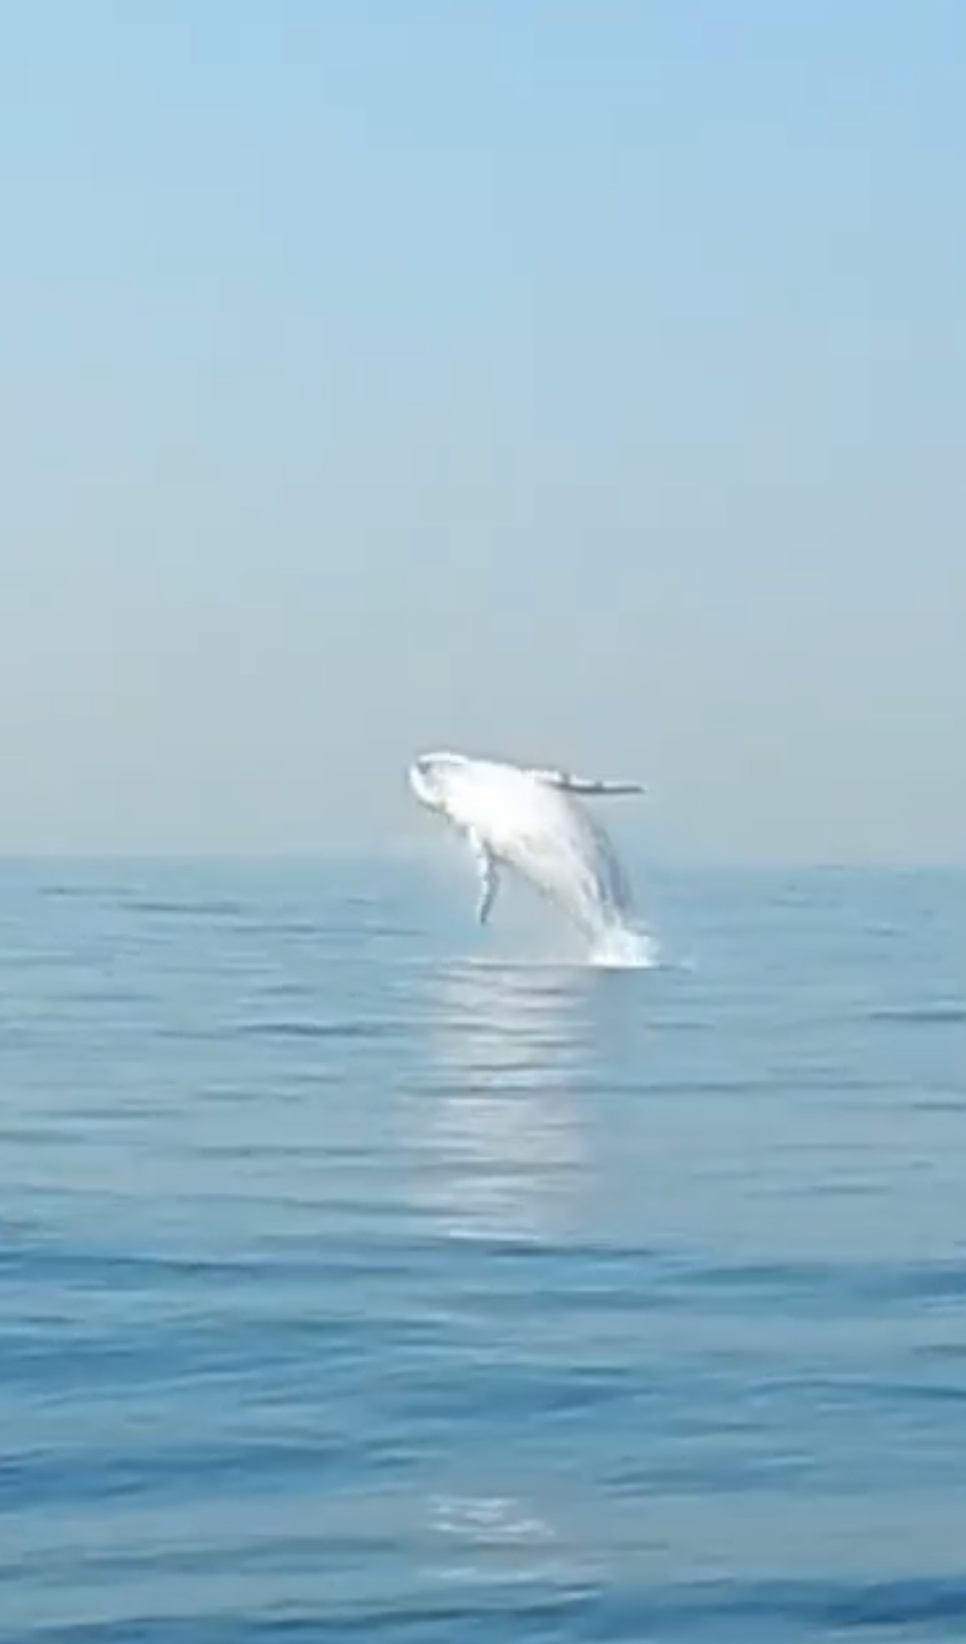humpback: (405, 745, 664, 969)
